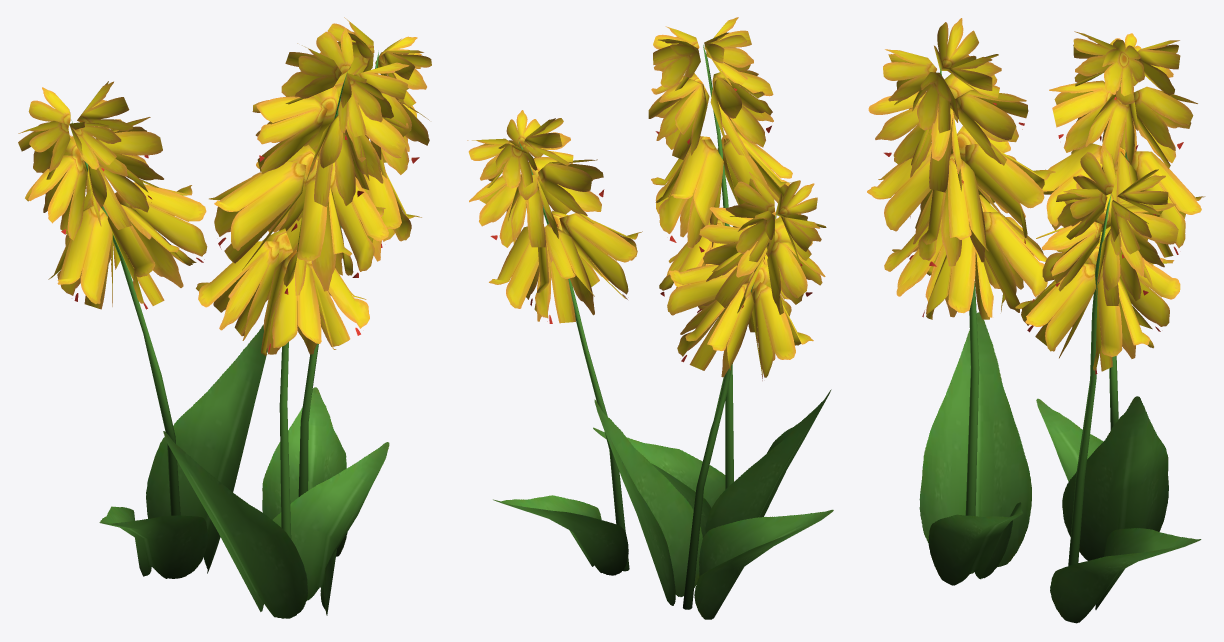
File: n_flower_4_group.glb
3 renders of one model, left to right at view 1: azimuth 30°, elevation 25°; view 2: azimuth 150°, elevation 25°; view 3: azimuth 270°, elevation 25°, orthographic. The views are drawn at different scales.
Parts seen in each view (by area): view 1: Flower_4_Group; view 2: Flower_4_Group; view 3: Flower_4_Group.
Part boxes in pixels (bbox=[...]): Flower_4_Group: bbox=[18, 17, 431, 618]; Flower_4_Group: bbox=[467, 17, 833, 619]; Flower_4_Group: bbox=[867, 18, 1205, 623].
Bounding box in the file's own units: 1.78 × 2.49 × 1.37.
Materials: 2 (2 with a texture image).
